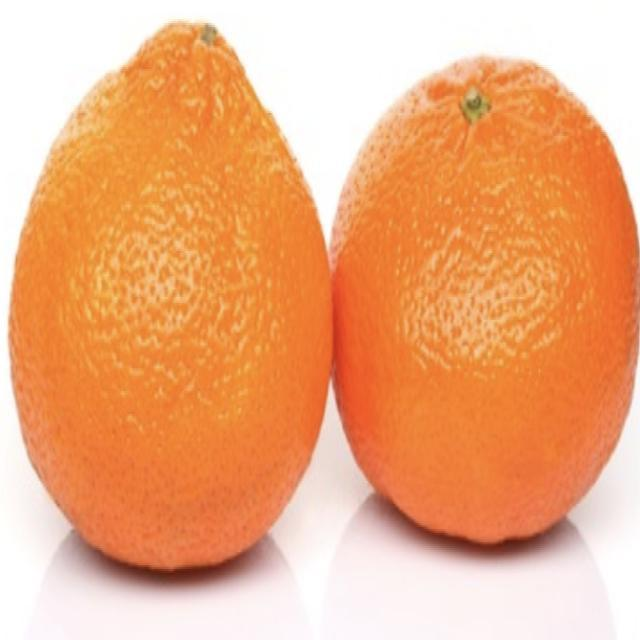Orange: (6, 18, 334, 573), (328, 52, 639, 546)
